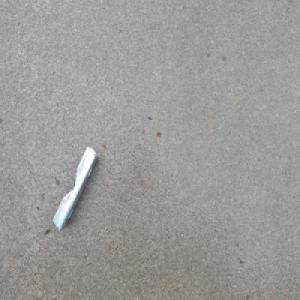ClampPart: (52, 145, 98, 233)
